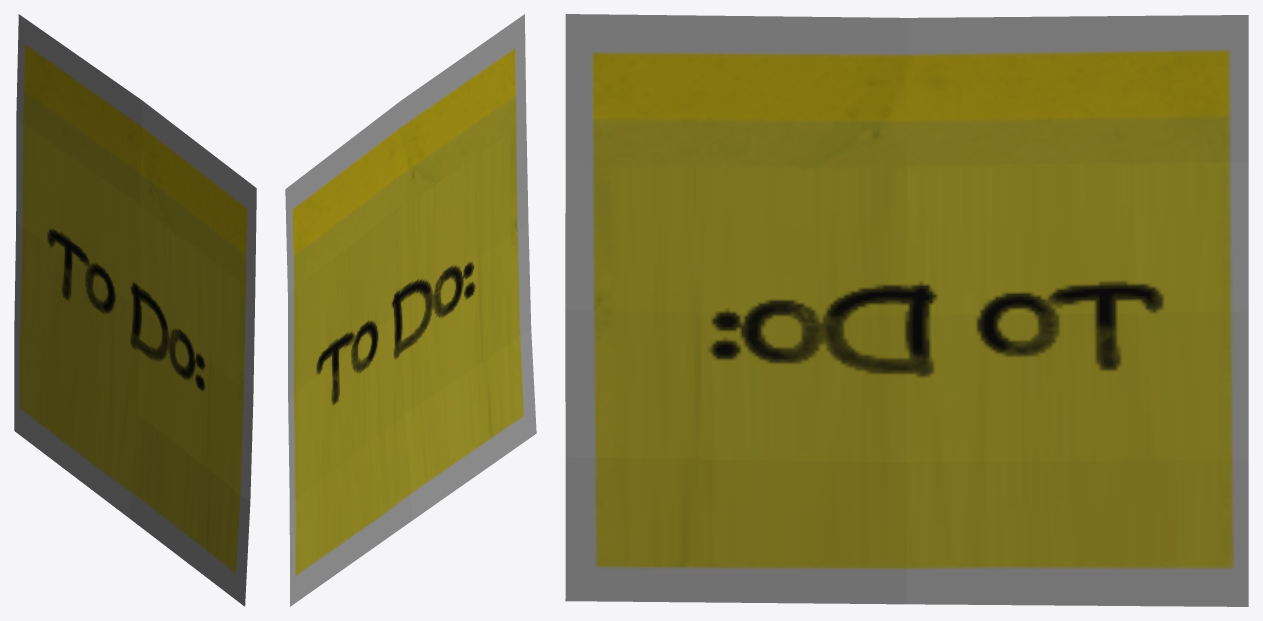
The model's file is SM_Sticker_A1.fbx.
3 views of the same model, side by side, from view 1: azimuth 30°, elevation 25°; view 2: azimuth 150°, elevation 25°; view 3: azimuth 270°, elevation 25° (orthographic). The views are drawn at different scales.
Visible parts, largest first — view 1: SM_Sticker_A1; view 2: SM_Sticker_A1; view 3: SM_Sticker_A1.
Boxes of the visible parts, box(x1,y1,x2,y2) form: SM_Sticker_A1: box(14, 14, 256, 606); SM_Sticker_A1: box(285, 14, 536, 606); SM_Sticker_A1: box(565, 14, 1248, 606).
Size of the model in its own units: 0.3611 by 9.11 by 8.77.
1 material, 1 textured.
